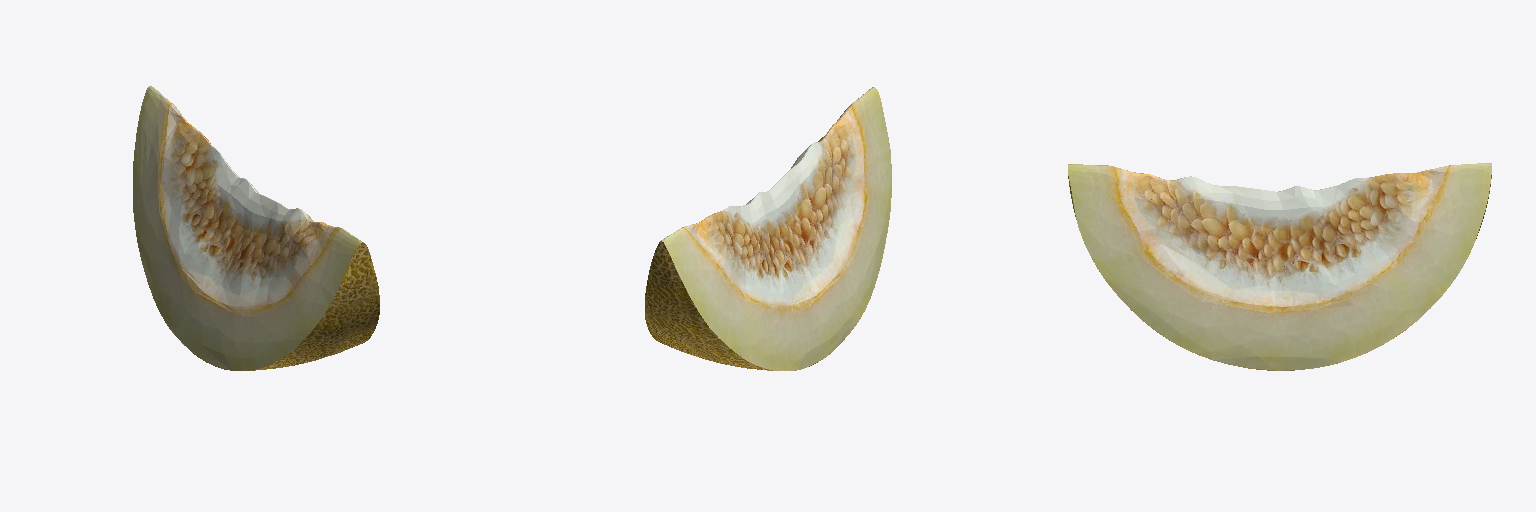
The picture shows the model from 3 angles: view 1: azimuth 30°, elevation 25°; view 2: azimuth 150°, elevation 25°; view 3: azimuth 270°, elevation 25°; orthographic projection.
Parts seen in each view (by area): view 1: melon.002; view 2: melon.002; view 3: melon.002.
Part boxes in pixels (x1,y1,x2,y2): melon.002: (133, 86, 379, 370); melon.002: (645, 87, 891, 370); melon.002: (1068, 163, 1491, 370).
Bounding box in the file's own units: 0.6421 × 0.9626 × 2.
Materials: 1 (1 with a texture image).